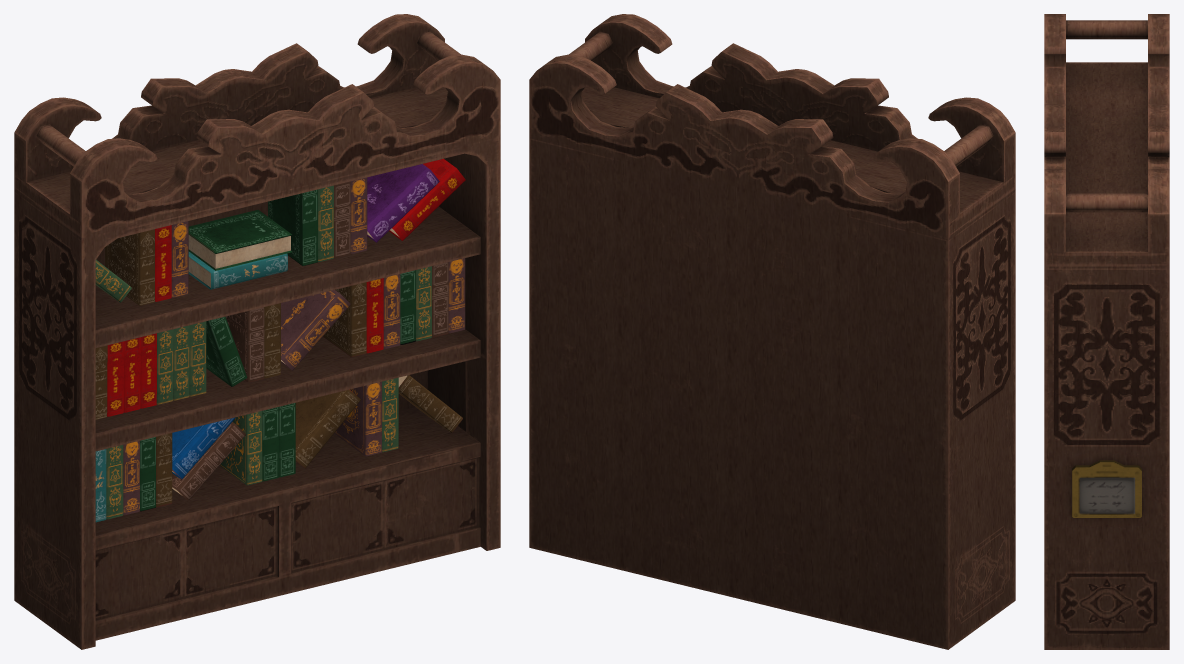
The model's file is sb_obj_DemonsCastle007_BookShelf01.fbx.
The picture shows the model from 3 angles, left to right: view 1: azimuth 30°, elevation 25°; view 2: azimuth 150°, elevation 25°; view 3: azimuth 270°, elevation 25°; orthographic projection. The views are drawn at different scales.
Parts seen in each view (by area): view 1: sb_obj_DemonsCastle007_BookShelf; view 2: sb_obj_DemonsCastle007_BookShelf; view 3: sb_obj_DemonsCastle007_BookShelf.
Boxes of the visible parts, box(x1,y1,x2,y2) form: sb_obj_DemonsCastle007_BookShelf: box(14, 14, 500, 649); sb_obj_DemonsCastle007_BookShelf: box(529, 14, 1015, 649); sb_obj_DemonsCastle007_BookShelf: box(1044, 14, 1169, 649).
Size of the model in its own units: 2.35 by 2.62 by 0.6488.
